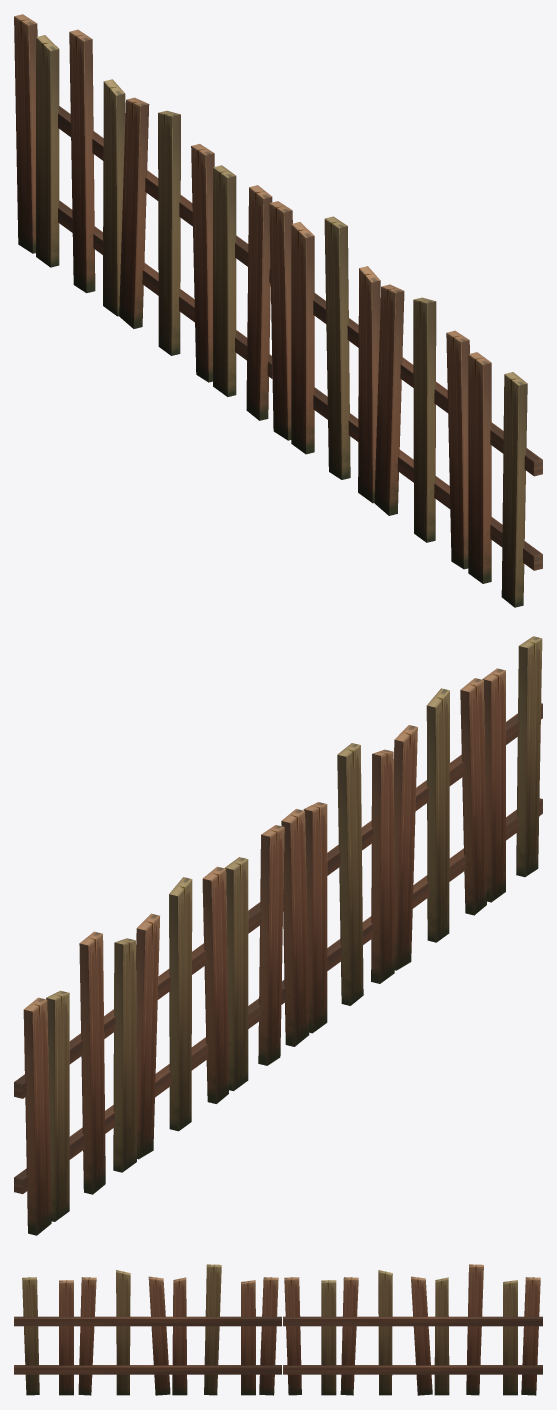
File: BG_halloween_town_wood_fence_long.FBX
3 renders of one model, top to bottom at view 1: azimuth 30°, elevation 25°; view 2: azimuth 150°, elevation 25°; view 3: azimuth 270°, elevation 25°, orthographic. The views are drawn at different scales.
Parts seen in each view (by area): view 1: BG_halloween_town_wood_fence_long; view 2: BG_halloween_town_wood_fence_long; view 3: BG_halloween_town_wood_fence_long.
Boxes of the visible parts, x1,y1,x2,y2 form: BG_halloween_town_wood_fence_long: [14, 14, 542, 607]; BG_halloween_town_wood_fence_long: [14, 636, 542, 1235]; BG_halloween_town_wood_fence_long: [14, 1264, 542, 1395].
Size of the model in its own units: 8.4 by 124 by 462.
